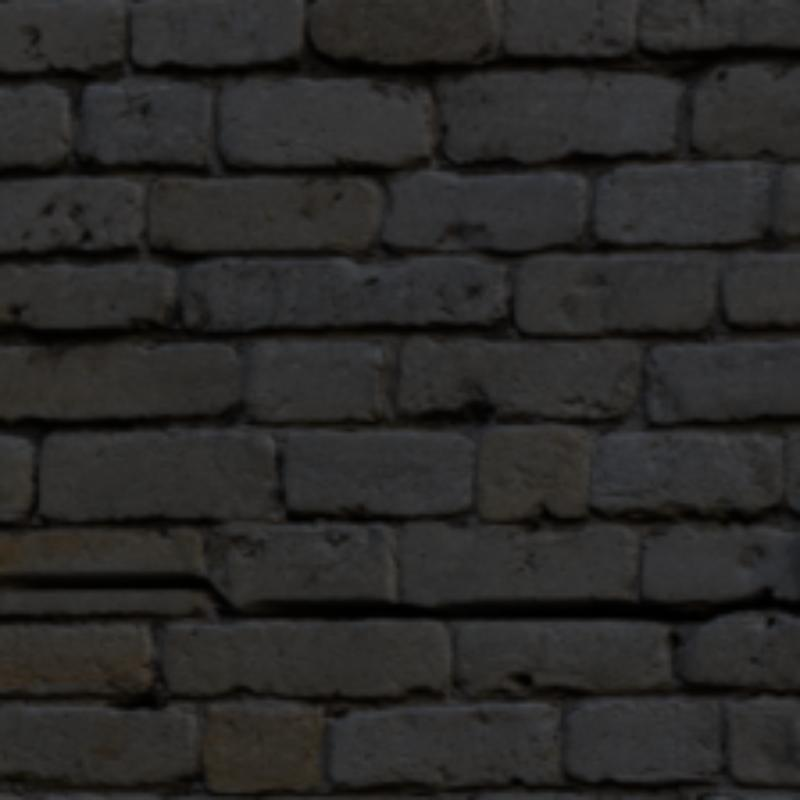crack: (0, 571, 796, 629)
